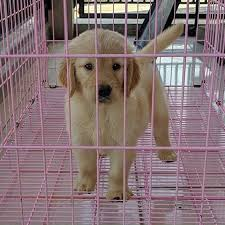Bulldog: (55, 25, 187, 199)
